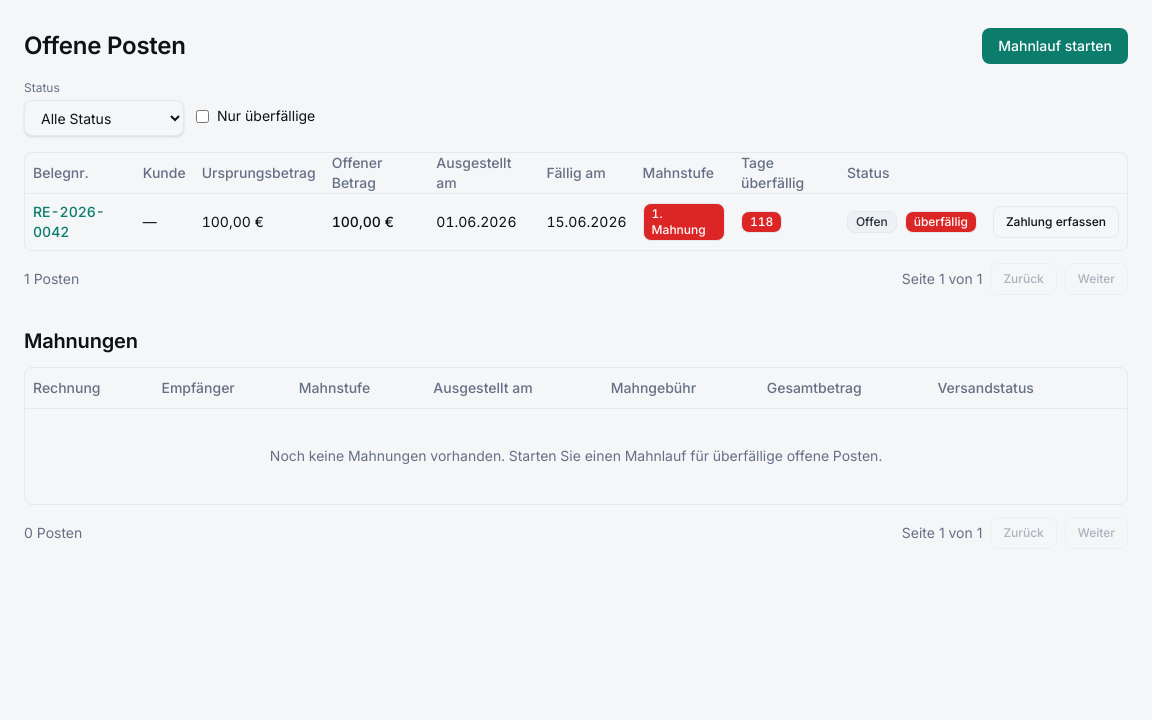
Test: OpenItemsListPage dunning controls › renders the dunning-level column and runs dunning with its summary
Click the button "Mahnlauf starten".
click(1055, 46)  # box [982,28,1128,64]
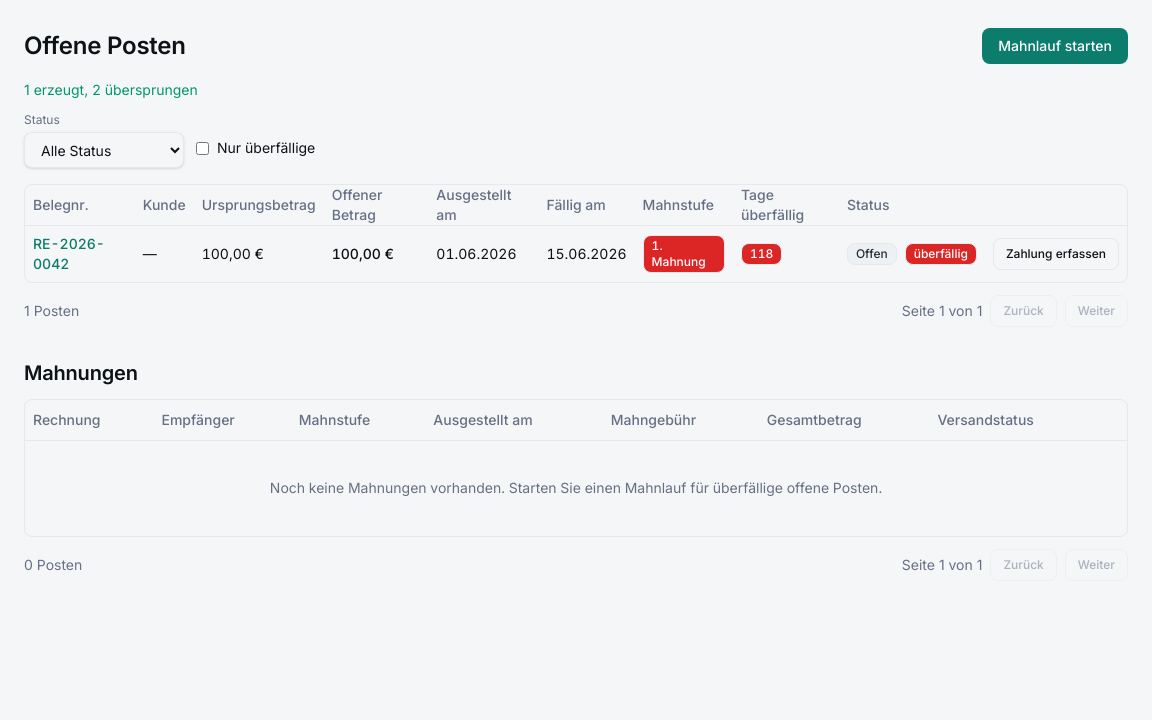
Check: the text "1 erzeugt, 2 übersprungen" is shown, box [24,81,198,98]
